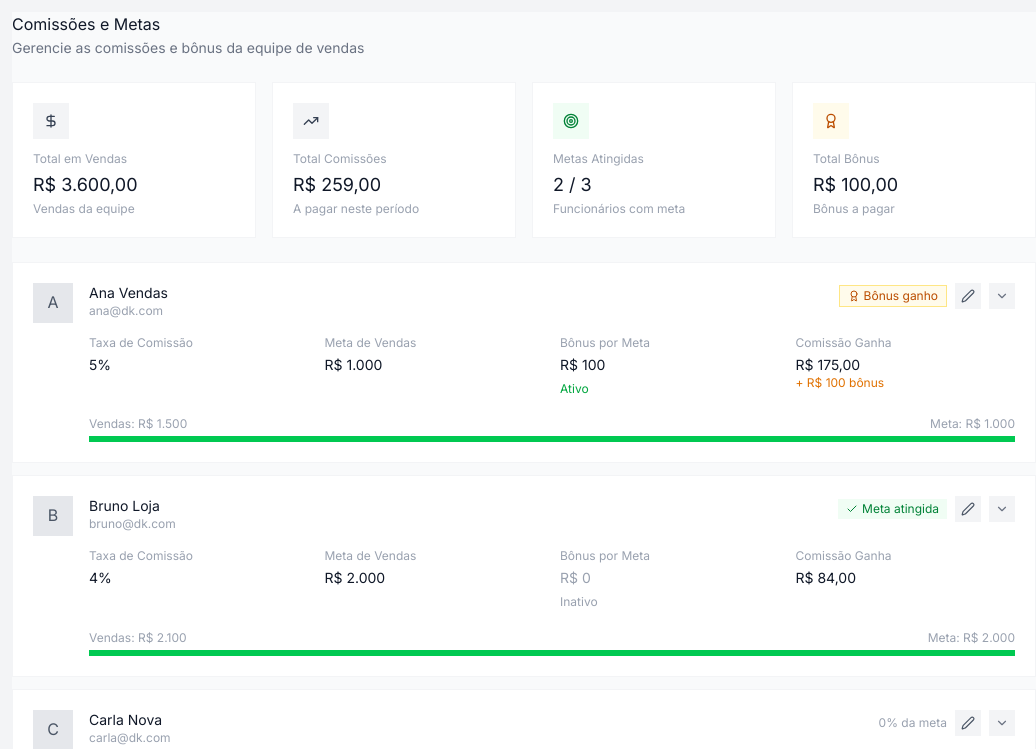
Test: Commissions › expande o histórico de vendas
Check: the heading "Comissões e Metas" is shown, box [12,14,160,34]
Click the 2nd button at (1002, 296), box [989,283,1015,309]
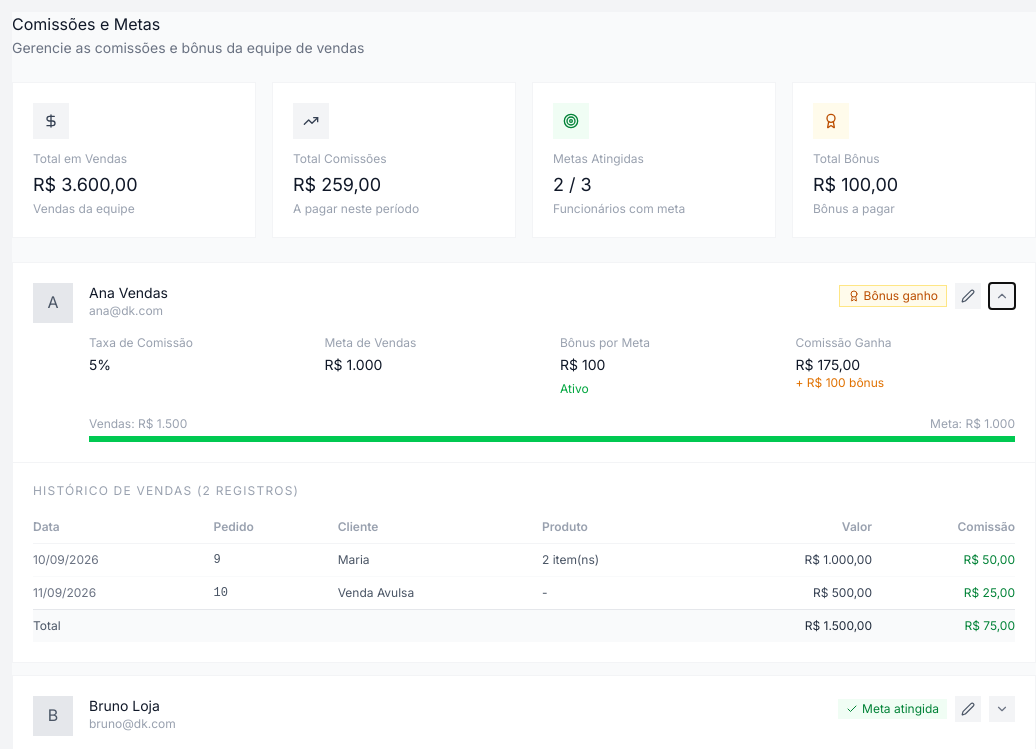
Check: the text "Histórico de Vendas (2 registros)" is shown, box [33,483,299,498]
Check: the text "Maria" is shown, box [338,544,542,577]
Check: the text "Venda Avulsa" is shown, box [338,577,542,610]
Click the 2nd button at (1002, 296), box [989,283,1015,309]
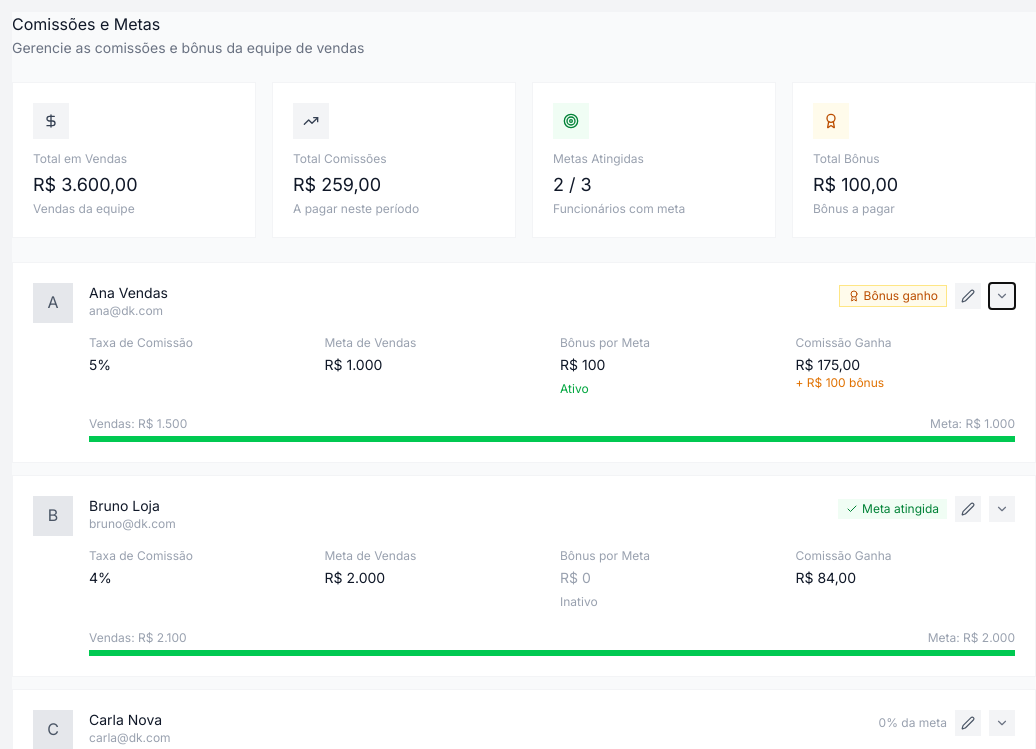
Check: the text "Histórico de Vendas" is gone
Click the 4th button at (1002, 509), box [989,496,1015,522]
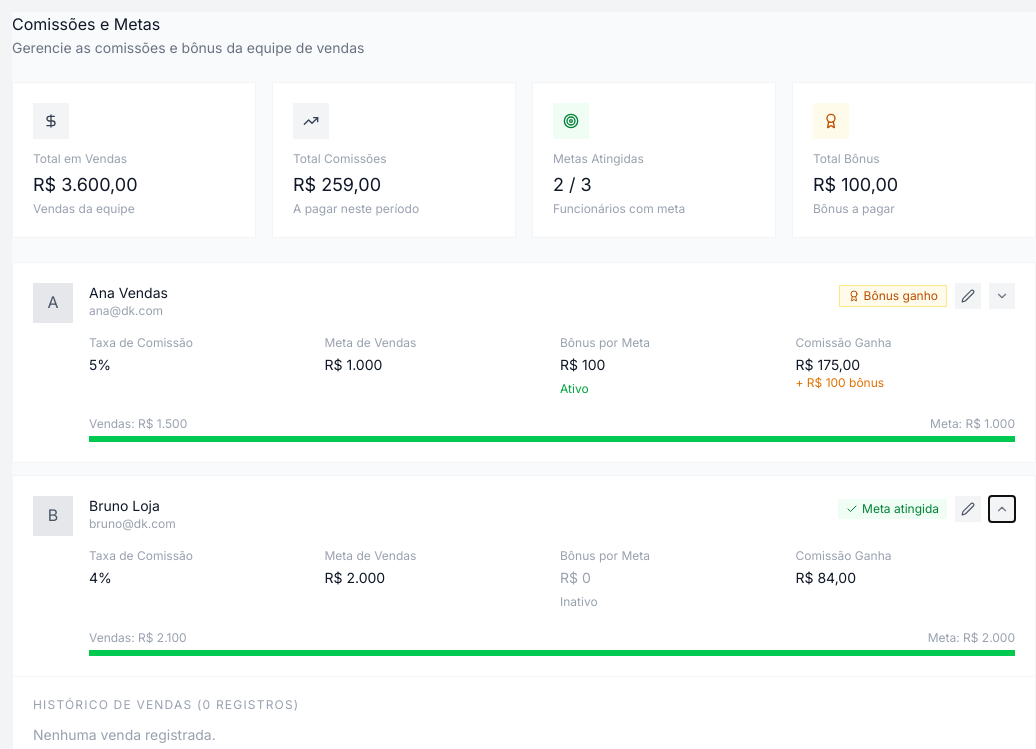
Check: the text "Nenhuma venda registrada." is shown, box [33,726,216,743]
